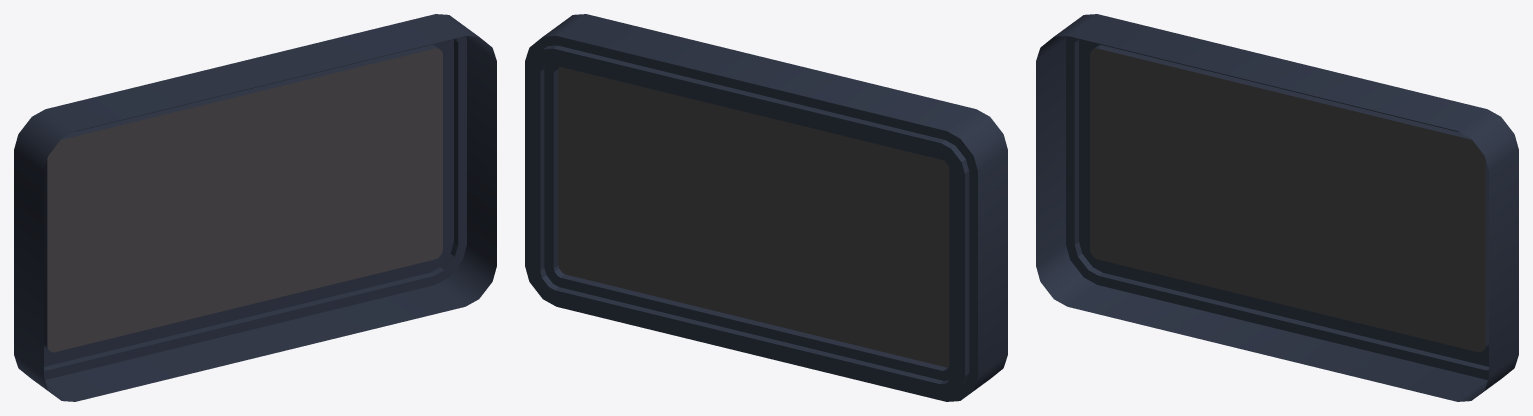
Rendered from tele.fbx.
The picture shows the model from 3 angles, left to right: view 1: azimuth 30°, elevation 25°; view 2: azimuth 150°, elevation 25°; view 3: azimuth 330°, elevation 25°; orthographic projection.
Visible parts, largest first — view 1: TELE; view 2: TELE; view 3: TELE.
Boxes of the visible parts, left/top/right/bottom form: TELE: left=14, top=14, right=496, bottom=401; TELE: left=525, top=14, right=1007, bottom=401; TELE: left=1036, top=14, right=1518, bottom=401.
Bounding box in the file's own units: 350 × 200 × 45.79.
